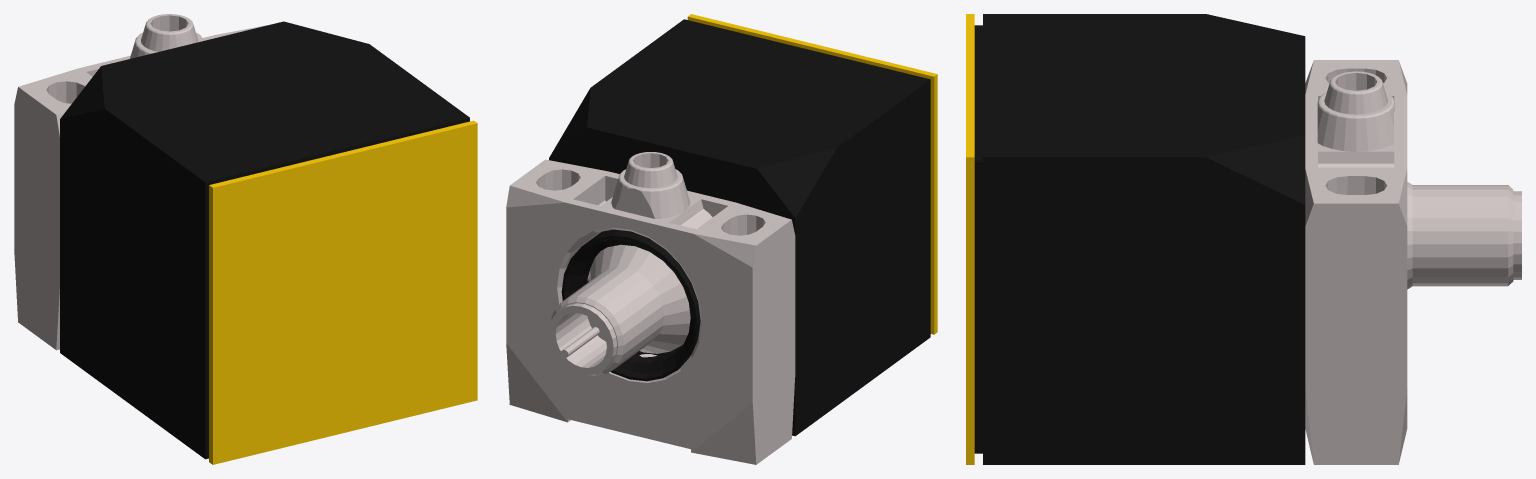
The model's file is Teste.glb.
The picture shows the model from 3 angles, left to right: view 1: azimuth 30°, elevation 25°; view 2: azimuth 150°, elevation 25°; view 3: azimuth 270°, elevation 25°; orthographic projection. The views are drawn at different scales.
Size of the model in its own units: 55.84 by 56.54 by 91.48.
